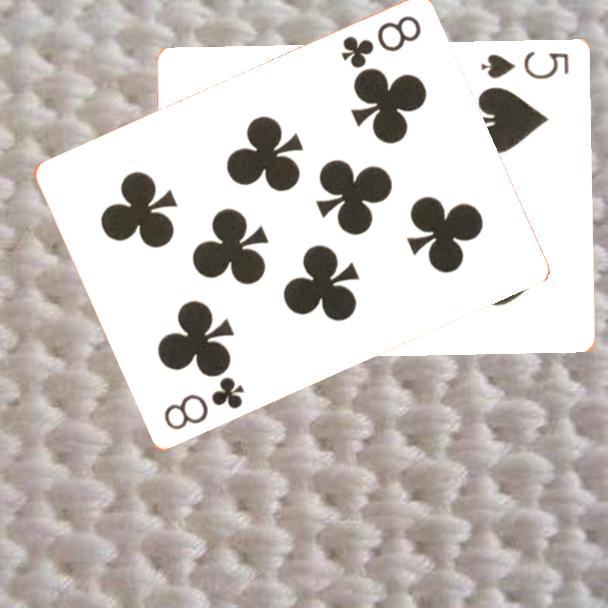c08: (160, 374, 247, 434), (337, 12, 424, 72)
s05: (478, 47, 572, 81)
